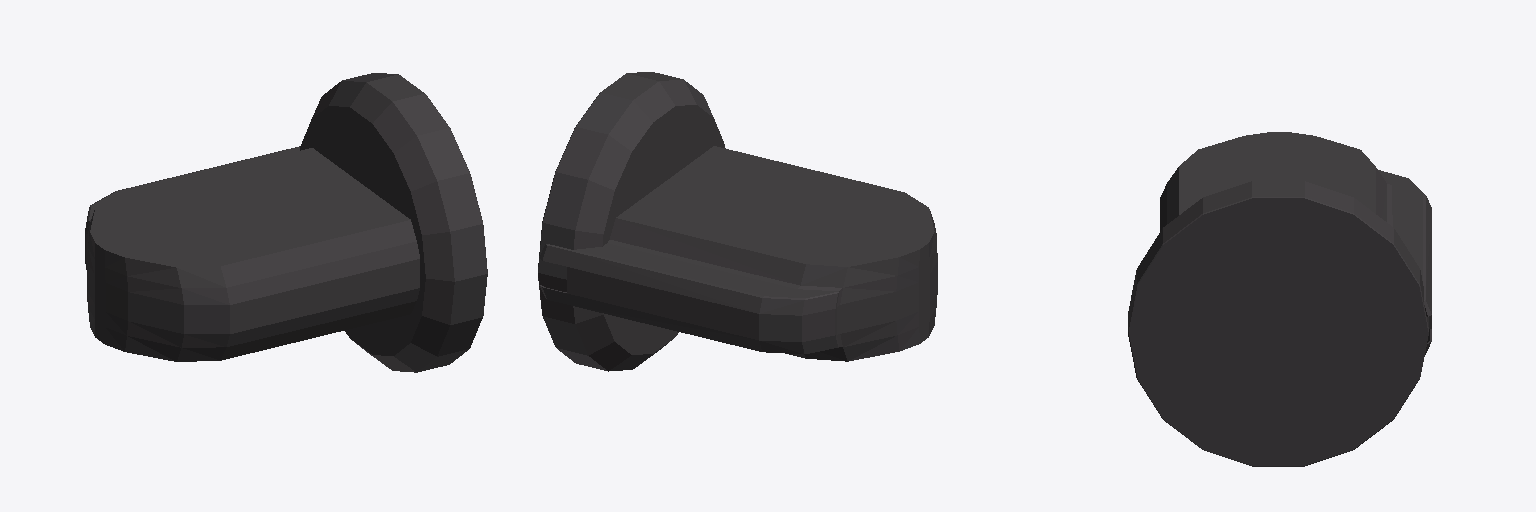
The model's file is l-hinge.obj.
The picture shows the model from 3 angles: view 1: azimuth 30°, elevation 25°; view 2: azimuth 150°, elevation 25°; view 3: azimuth 270°, elevation 25°; orthographic projection.
Visible parts, largest first — view 1: l-hinge.obj; view 2: l-hinge.obj; view 3: l-hinge.obj.
Part boxes in pixels (x1,y1,x2,y2): l-hinge.obj: (85,73,487,372); l-hinge.obj: (538,72,937,371); l-hinge.obj: (1128,132,1431,466).
Size of the model in its own units: 0.1392 by 0.1147 by 0.1177.